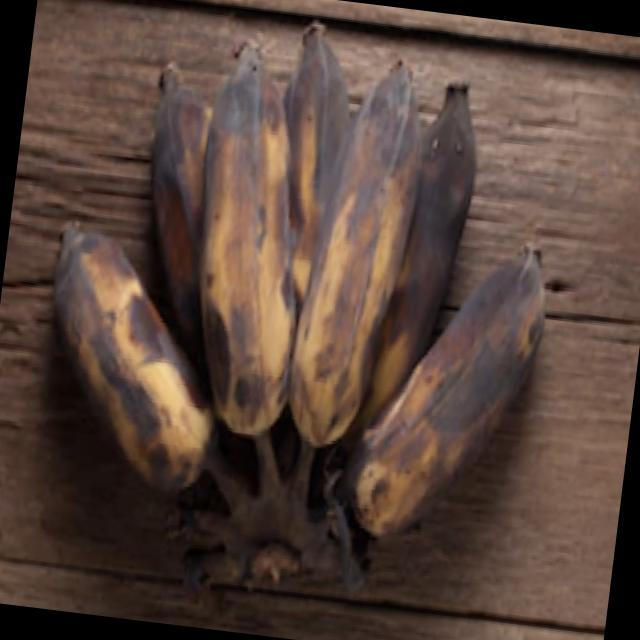rotten-banana: (360, 246, 568, 554), (288, 33, 433, 470), (188, 25, 324, 446), (22, 218, 224, 478), (390, 102, 491, 362), (269, 22, 361, 255), (142, 54, 226, 308)
